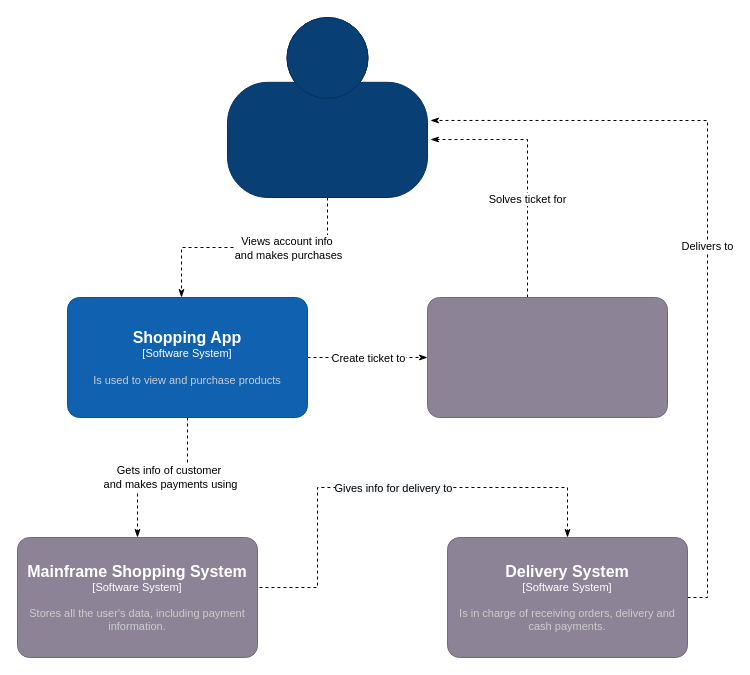
Image size: 750x675. Some labels were removed from this diagram. Here are the shapes that lost their labels. From the top down, the centre of each, then its label:
At point (327, 107): "Shopping App Customer [Person] Customer of the shopping app with an account.".
At point (547, 357): "Assistance System [Software System] Used to help with the user's problems.".
